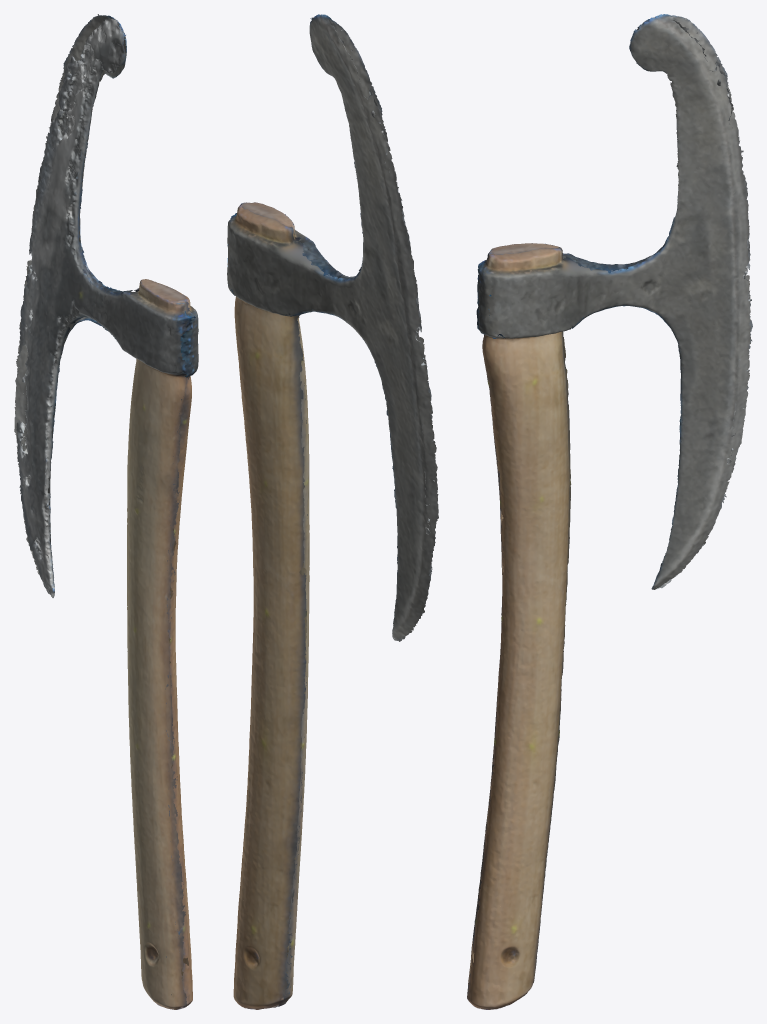
The model's file is replica_anglo-saxon_t-axe.glb.
3 views of the same model, side by side, from view 1: azimuth 30°, elevation 25°; view 2: azimuth 210°, elevation 25°; view 3: azimuth 270°, elevation 25° (orthographic). The views are drawn at different scales.
Visible parts, largest first — view 1: Object_3, Object_2; view 2: Object_2, Object_3; view 3: Object_2, Object_3.
Boxes of the visible parts, bbox=[...] form: Object_3: bbox=[16, 14, 198, 1009]; Object_2: bbox=[14, 15, 198, 1009]; Object_2: bbox=[227, 14, 438, 1009]; Object_3: bbox=[227, 14, 436, 1008]; Object_2: bbox=[467, 14, 750, 1009]; Object_3: bbox=[467, 16, 752, 1009].
Size of the model in its own units: 0.3831 by 4.56 by 1.18.
